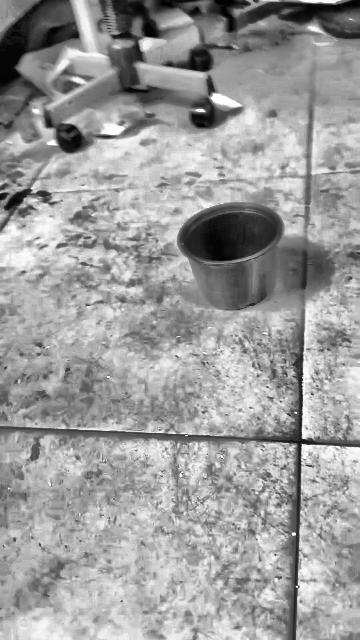pot: (179, 202, 283, 310)
